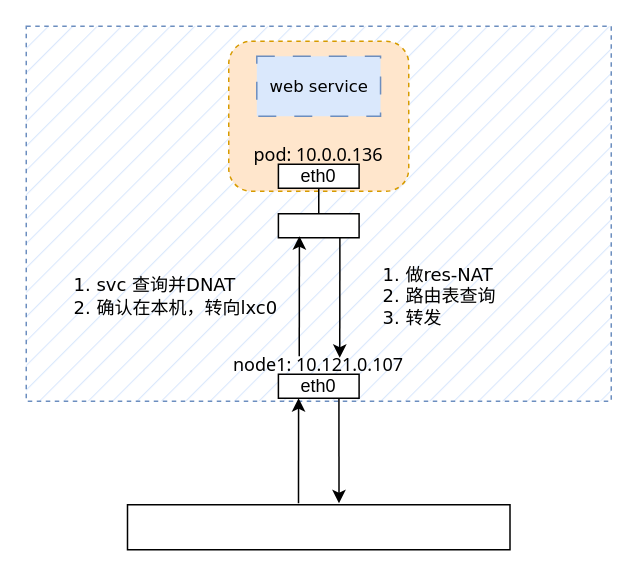
The diagram is 638 pixels wide and 576 high, and some of its shapes have lost their labels. The shapes that lost their labels are listed below. From the top down, each one's centre as x and y in pixels, then its label:
(x=318, y=225): lxc0
(x=318, y=526): curl -I 10.121.134.107:30375
